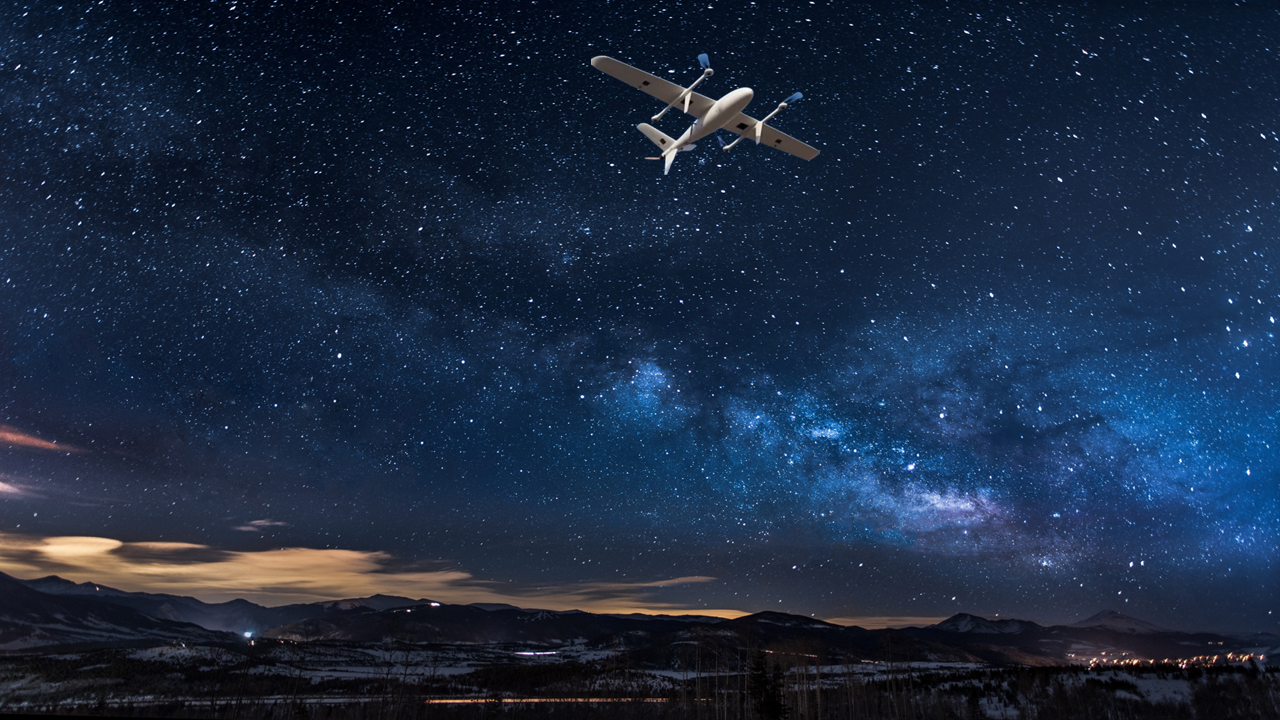military drone: (591, 53, 820, 174)
